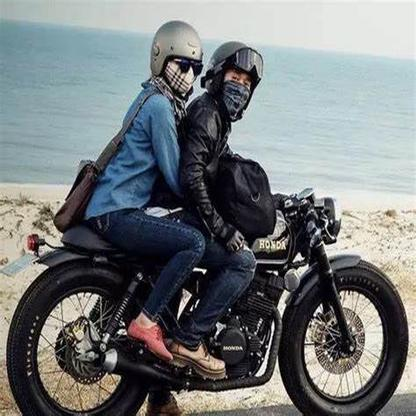target: (6, 21, 408, 412)
